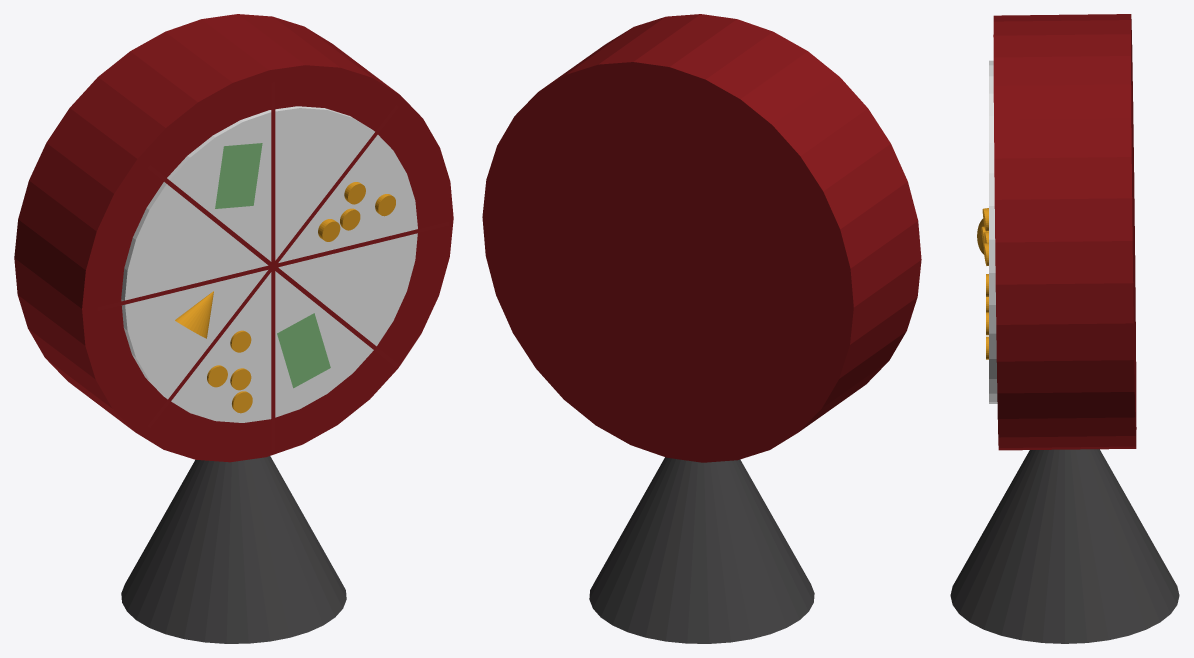
File: wheel.glb
3 renders of one model, left to right at view 1: azimuth 30°, elevation 25°; view 2: azimuth 150°, elevation 25°; view 3: azimuth 270°, elevation 25°, orthographic.
Parts seen in each view (by area): view 1: Cylinder, Cylinder.001, Cone, Plane.004, Plane.005, Plane, Plane.001, Plane.003, Plane.002, Cone.001; view 2: Cylinder, Cone; view 3: Cylinder, Cone, Cylinder.001.
Boxes of the visible parts, bbox=[...] form: Cylinder: bbox=[14, 14, 453, 462]; Cylinder.001: bbox=[121, 106, 417, 422]; Cone: bbox=[121, 456, 346, 643]; Plane.004: bbox=[215, 143, 262, 208]; Plane.005: bbox=[277, 313, 330, 388]; Plane: bbox=[271, 82, 275, 450]; Plane.001: bbox=[97, 221, 449, 311]; Plane.003: bbox=[148, 105, 398, 427]; Plane.002: bbox=[147, 165, 398, 367]; Cone.001: bbox=[175, 291, 213, 338]; Cylinder: bbox=[482, 14, 921, 462]; Cone: bbox=[589, 457, 814, 643]; Cylinder: bbox=[993, 14, 1136, 450]; Cone: bbox=[950, 449, 1179, 643]; Cylinder.001: bbox=[989, 60, 997, 403].
Size of the model in its own units: 3.8 by 5.41 by 2.
